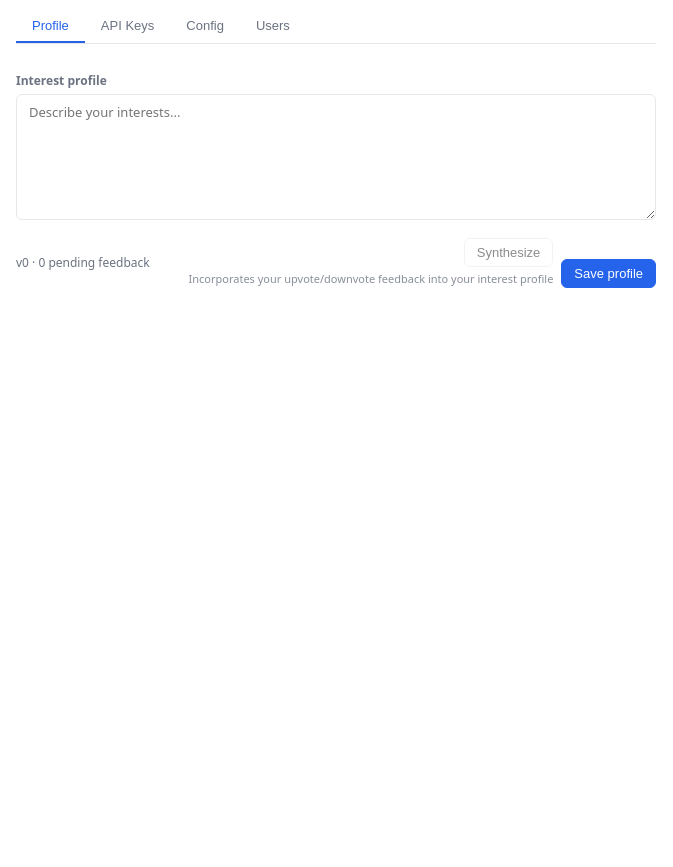
Test: SettingsView — config tab › test connection buttons › Test LLM button posts to /settings/test-llm and shows ok result
The width and height of the screenshot is (673, 867).
Step 1. Click the button with class "tab" showing "Config" → [205, 26], box [170,10,240,43]
(page scrolled)
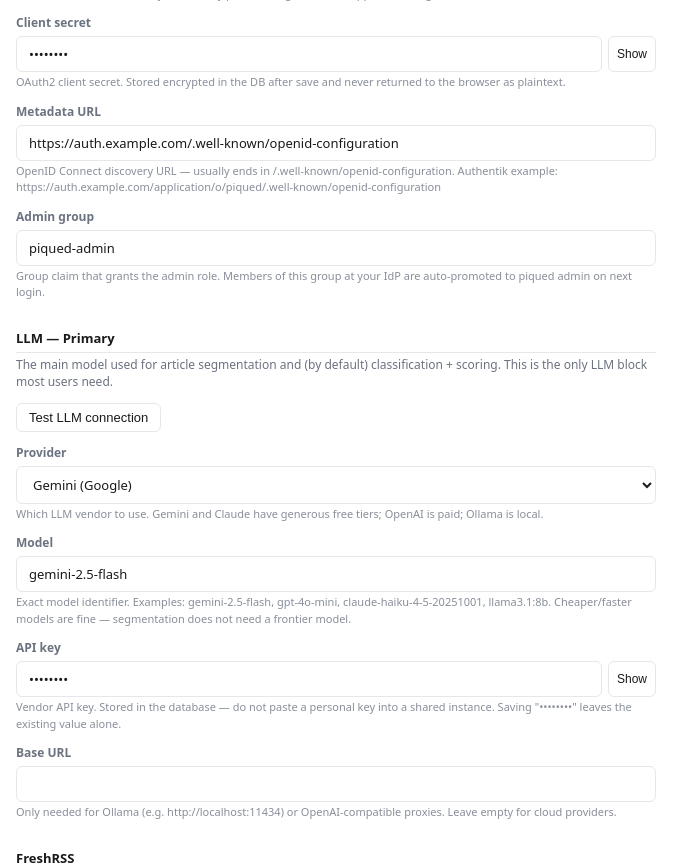
Step 2. Click the button "Test LLM connection" → [89, 417], box [16,403,161,432]
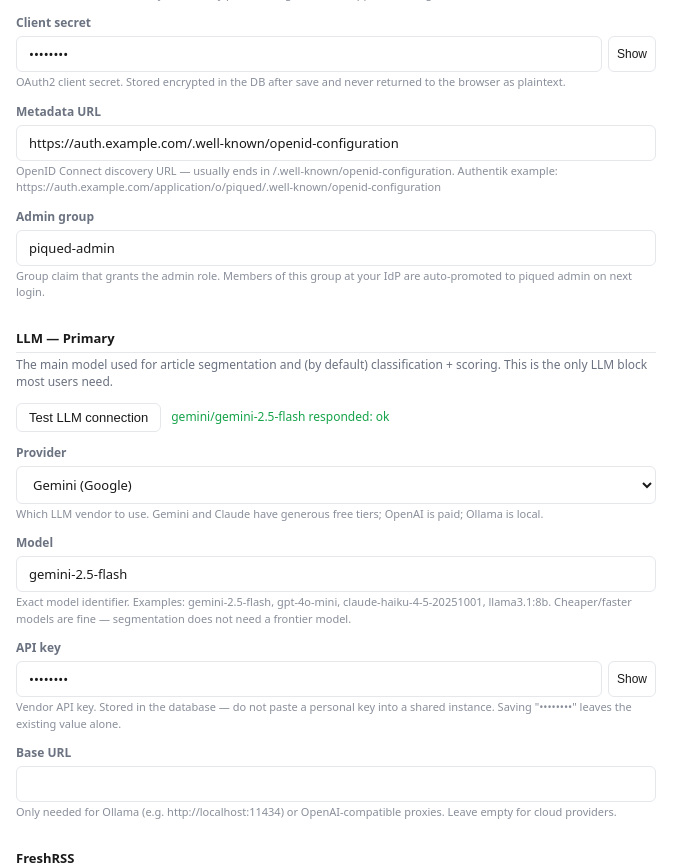
Result: the text with class "test-result--ok" shows "gemini/gemini-2.5-flash" at [171,408,389,425]
